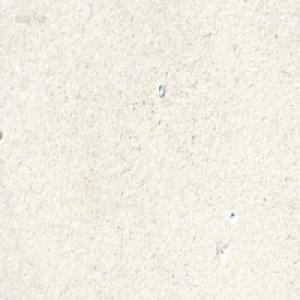Washer: (156, 83, 164, 97)
